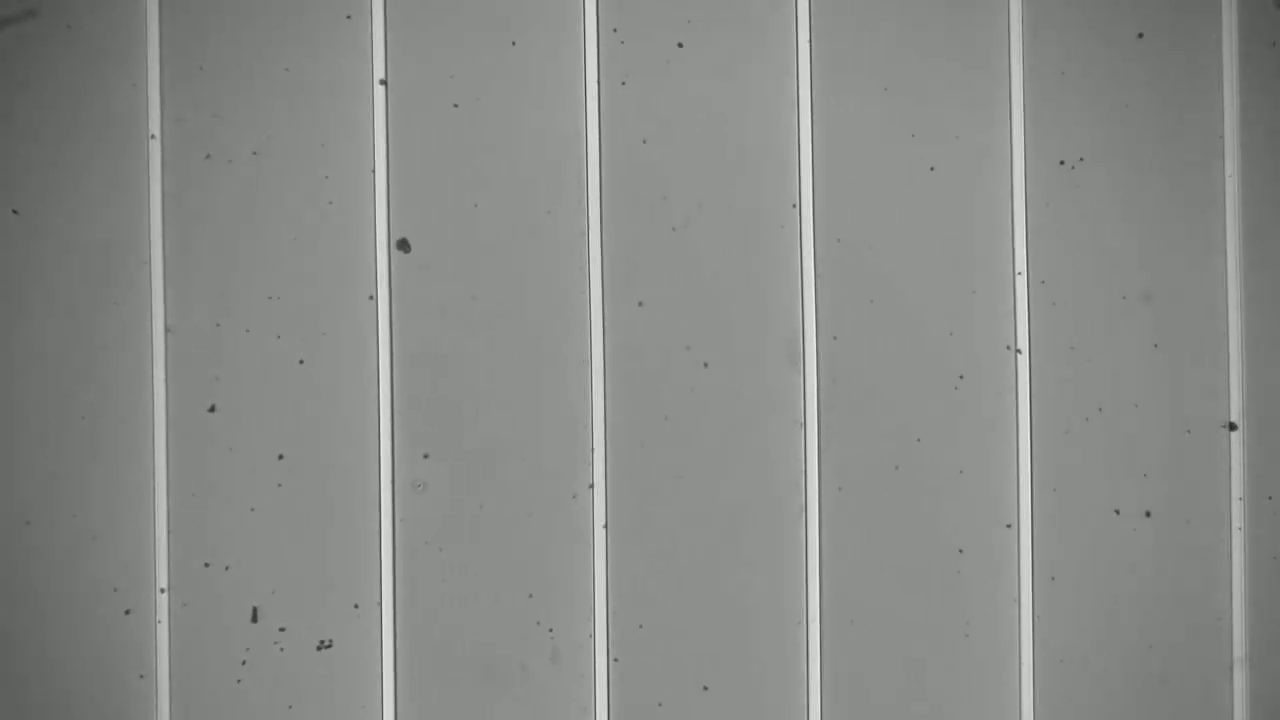stains_enbedded: (1220, 409, 1248, 438), (365, 73, 395, 91)
